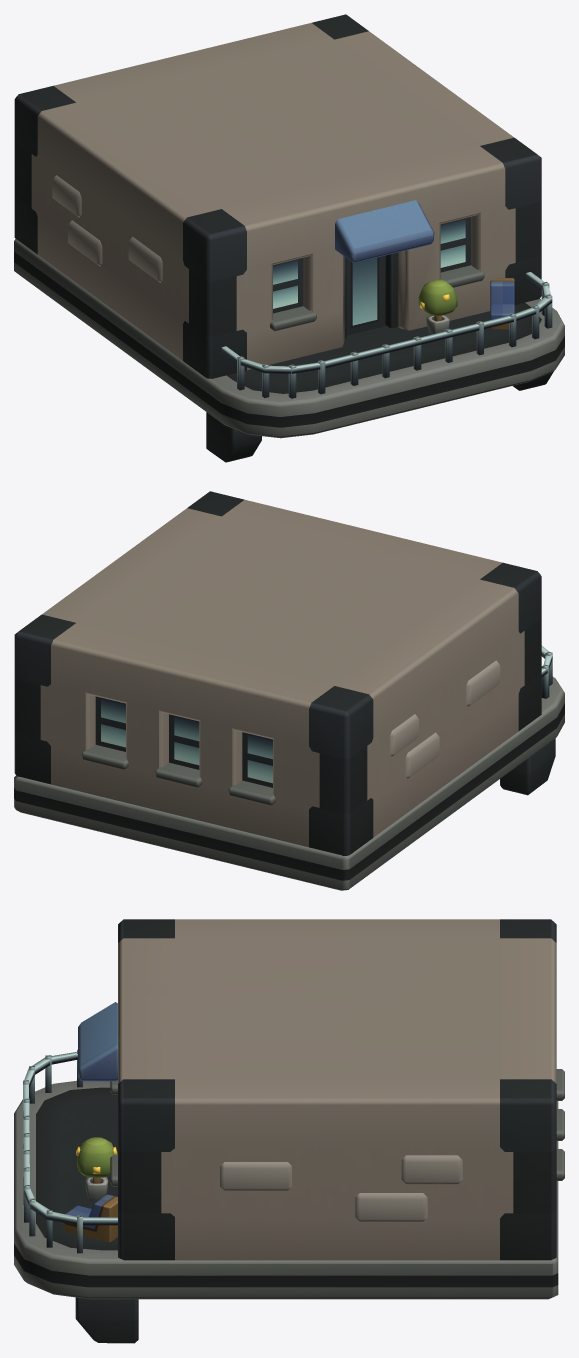
The model's file is appartment_type1_x4_balcony_cream.fbx.
The picture shows the model from 3 angles, top to bottom: view 1: azimuth 30°, elevation 25°; view 2: azimuth 150°, elevation 25°; view 3: azimuth 270°, elevation 25°; orthographic projection. The views are drawn at different scales.
Parts seen in each view (by area): view 1: appartment_type1_x4_balcony_cream, door_appartment_type1_x4_balcony_grey; view 2: appartment_type1_x4_balcony_cream; view 3: appartment_type1_x4_balcony_cream.
Part boxes in pixels (bbox=[...]): appartment_type1_x4_balcony_cream: bbox=[14, 14, 564, 462]; door_appartment_type1_x4_balcony_grey: bbox=[346, 255, 385, 335]; appartment_type1_x4_balcony_cream: bbox=[14, 491, 564, 890]; appartment_type1_x4_balcony_cream: bbox=[14, 919, 564, 1343].
Bounding box in the file's own units: 819 × 505 × 1017.
